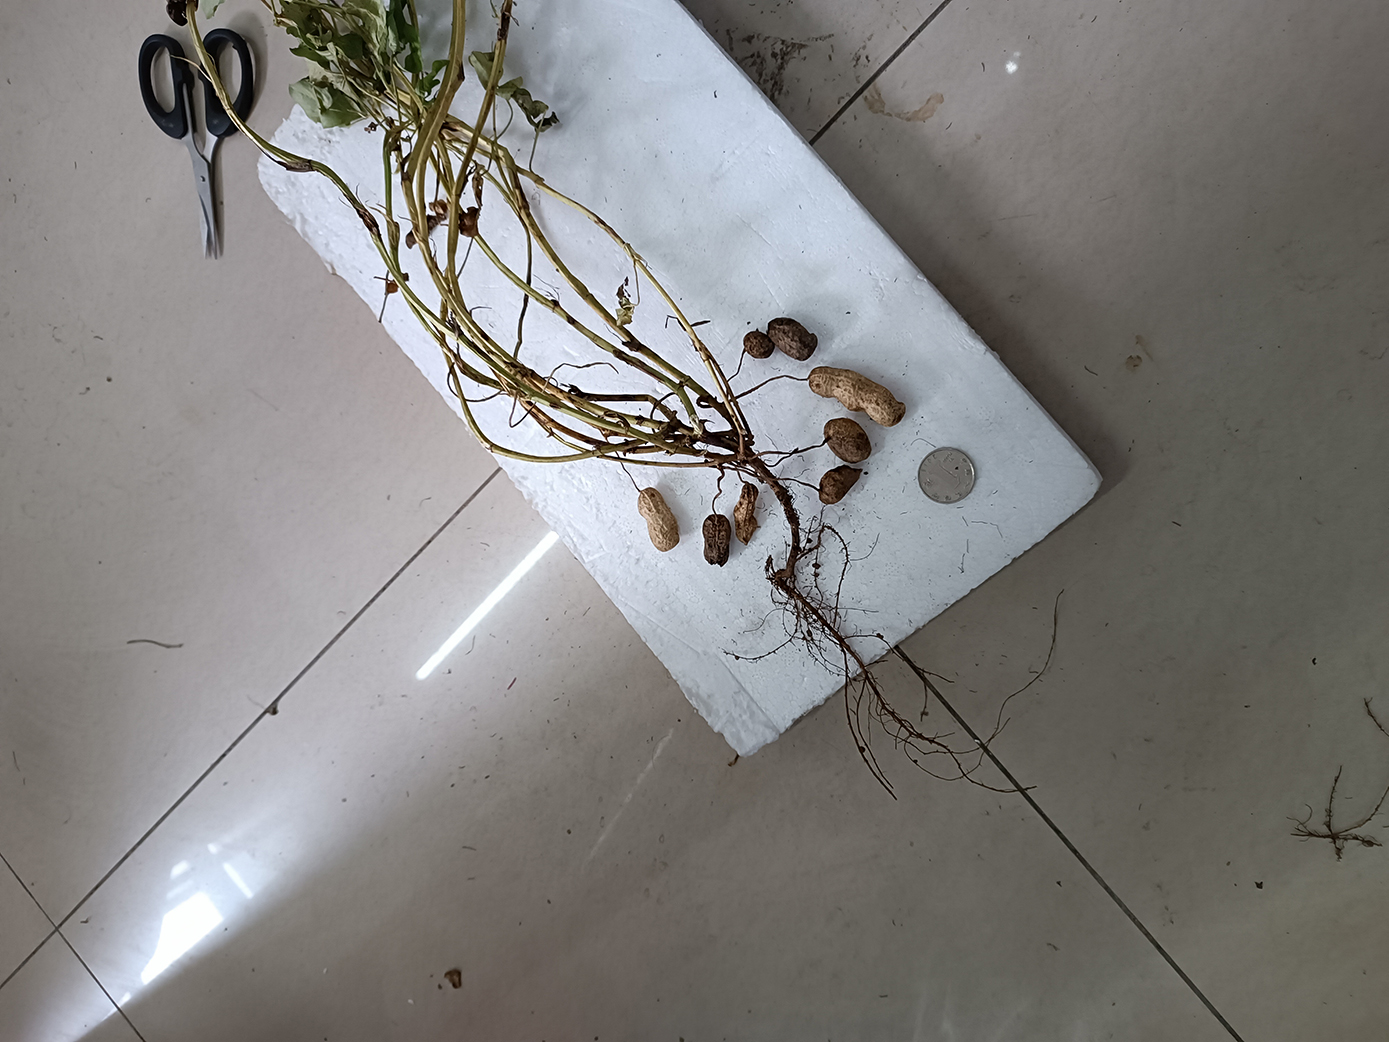h: (809, 367, 908, 427), (637, 487, 679, 553)
l: (767, 317, 818, 361), (824, 419, 872, 463), (819, 465, 864, 503), (733, 482, 760, 545), (702, 514, 732, 568), (743, 331, 775, 359)
